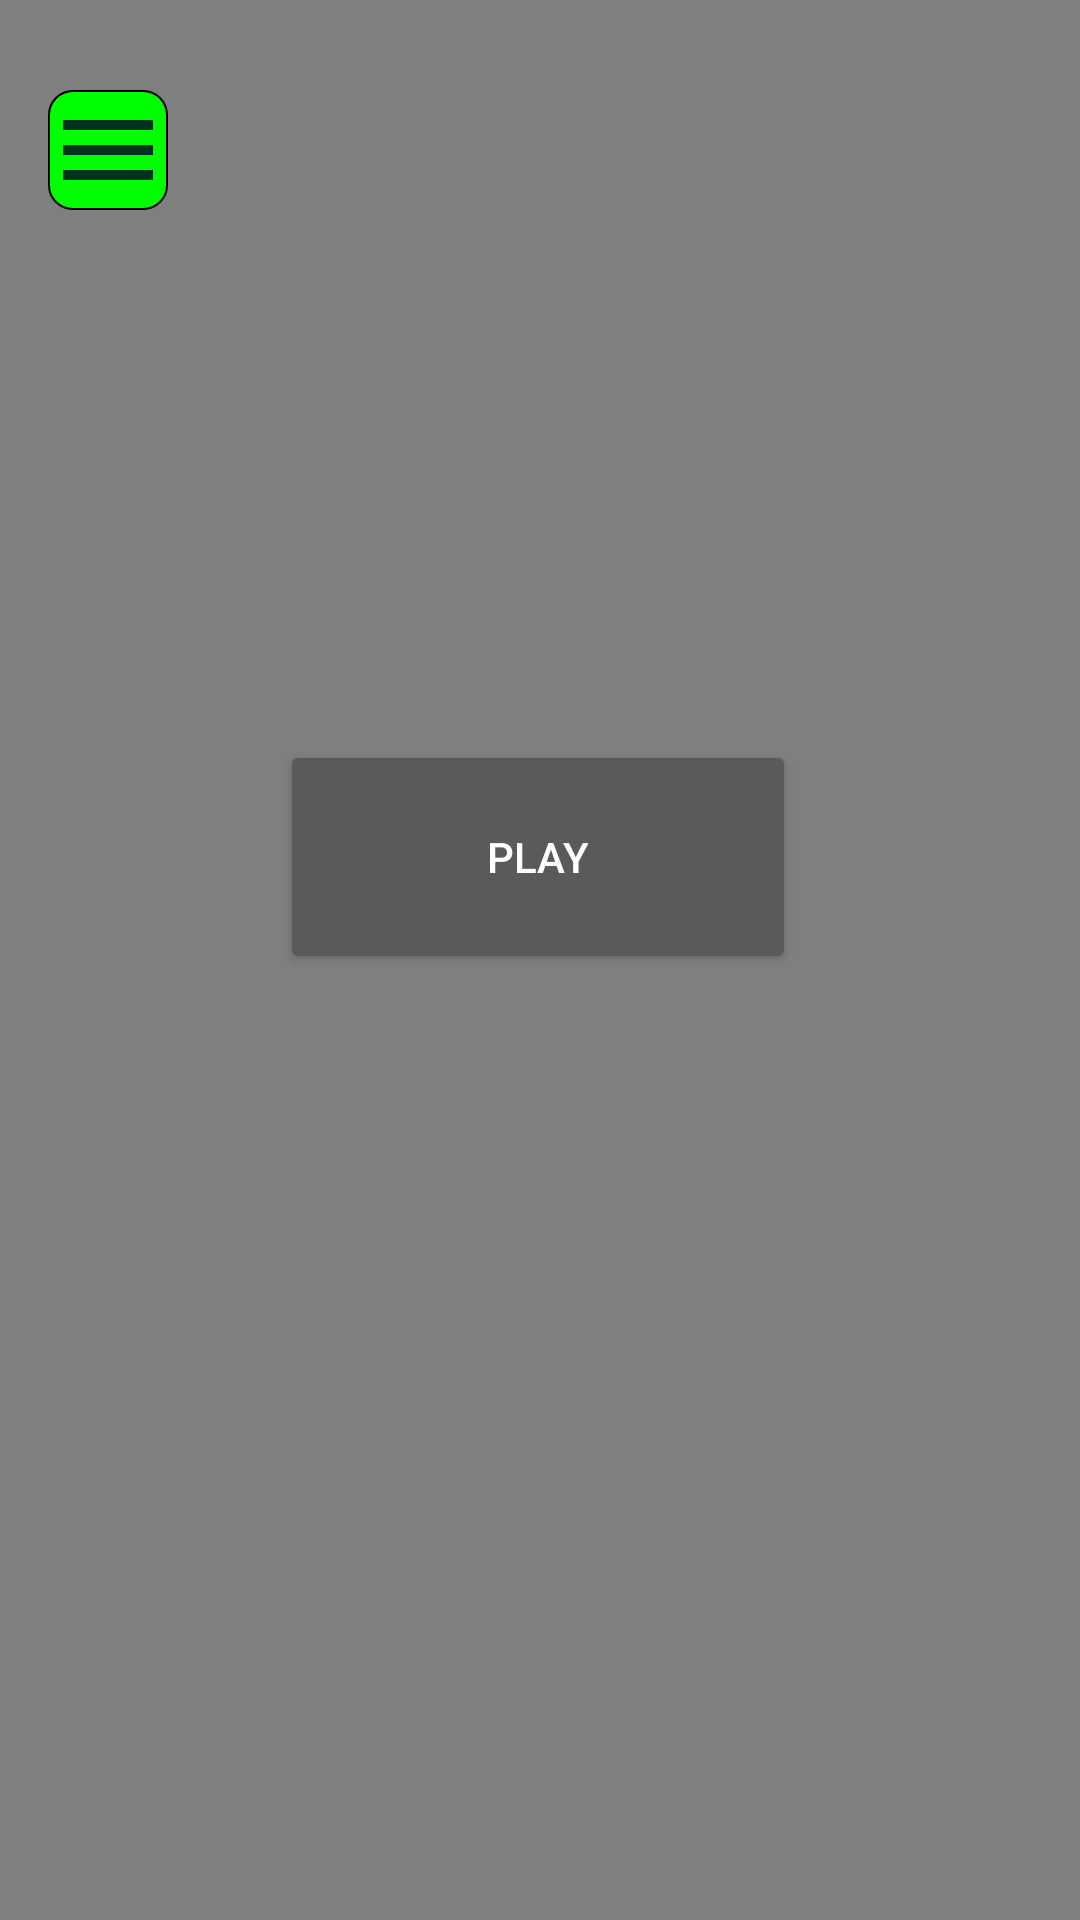

Named icons in this screenshot (1080px×1920px) and their bounding boxes, bbox=[x1, y1, x2, y2]:
menu: bbox=[48, 90, 168, 210]
